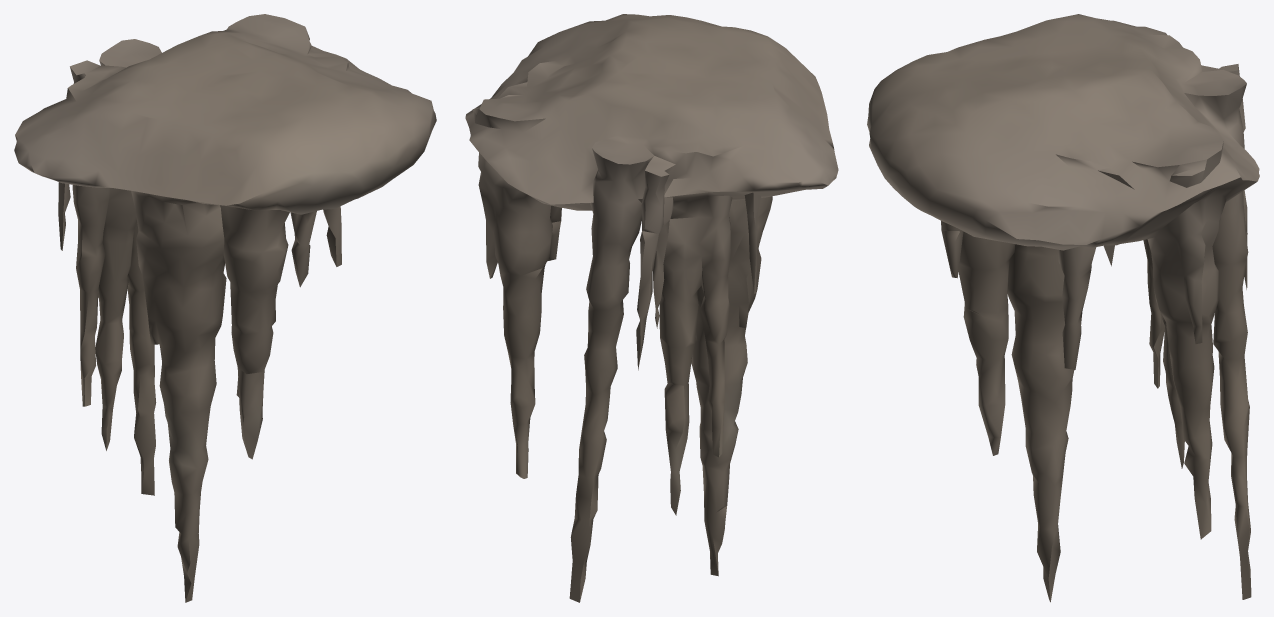
Rendered from stalactite_cluster_a.ee32a584.glb.
3 views of the same model, side by side, from view 1: azimuth 30°, elevation 25°; view 2: azimuth 150°, elevation 25°; view 3: azimuth 270°, elevation 25° (orthographic). The views are drawn at different scales.
Parts seen in each view (by area): view 1: stalactite_cluster_a; view 2: stalactite_cluster_a; view 3: stalactite_cluster_a.
Boxes of the visible parts, x1,y1,x2,y2 form: stalactite_cluster_a: [14, 14, 436, 602]; stalactite_cluster_a: [465, 14, 838, 602]; stalactite_cluster_a: [867, 14, 1259, 602].
Bounding box in the file's own units: 1.06 × 1.45 × 0.912.
